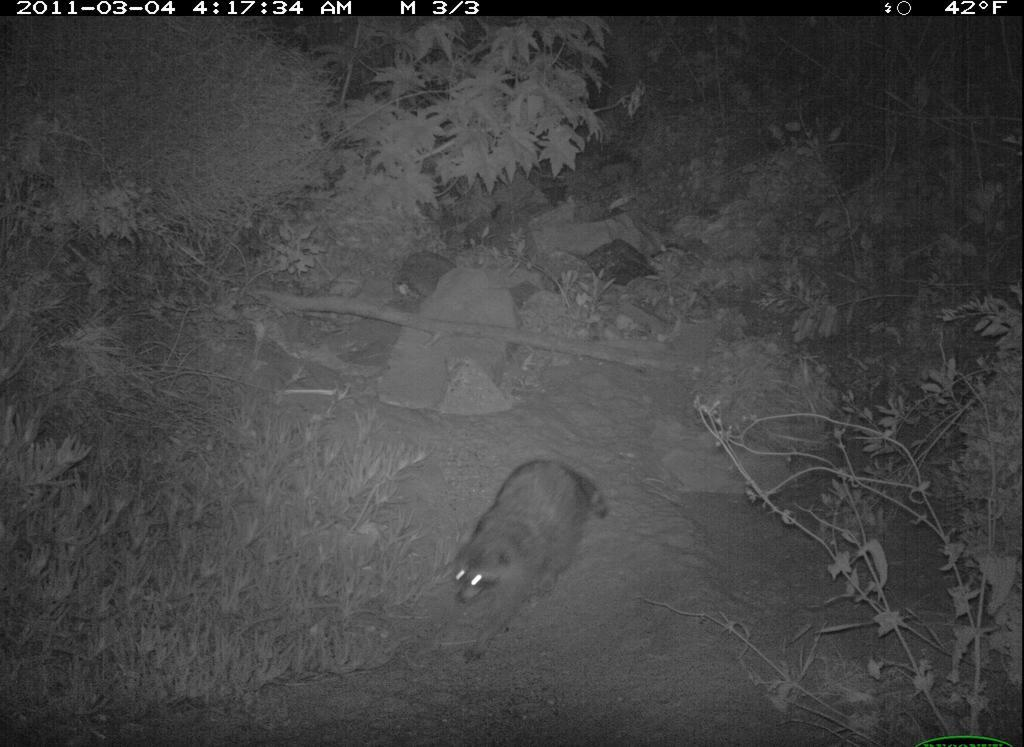raccoon: (429, 453, 617, 669)
